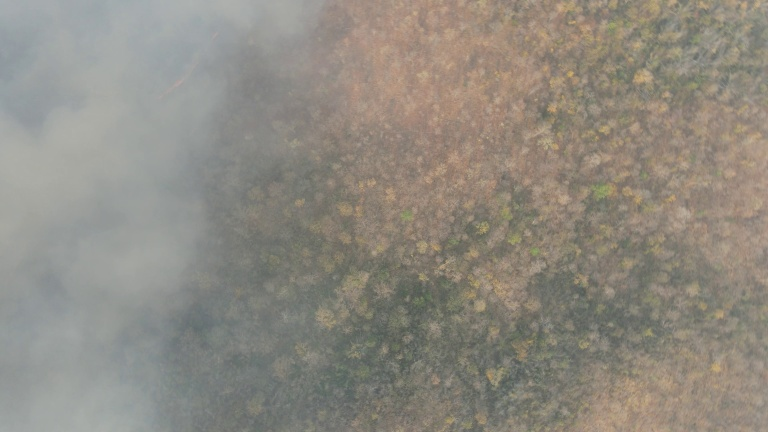fire: (153, 29, 223, 101)
smoke: (1, 1, 250, 425)
